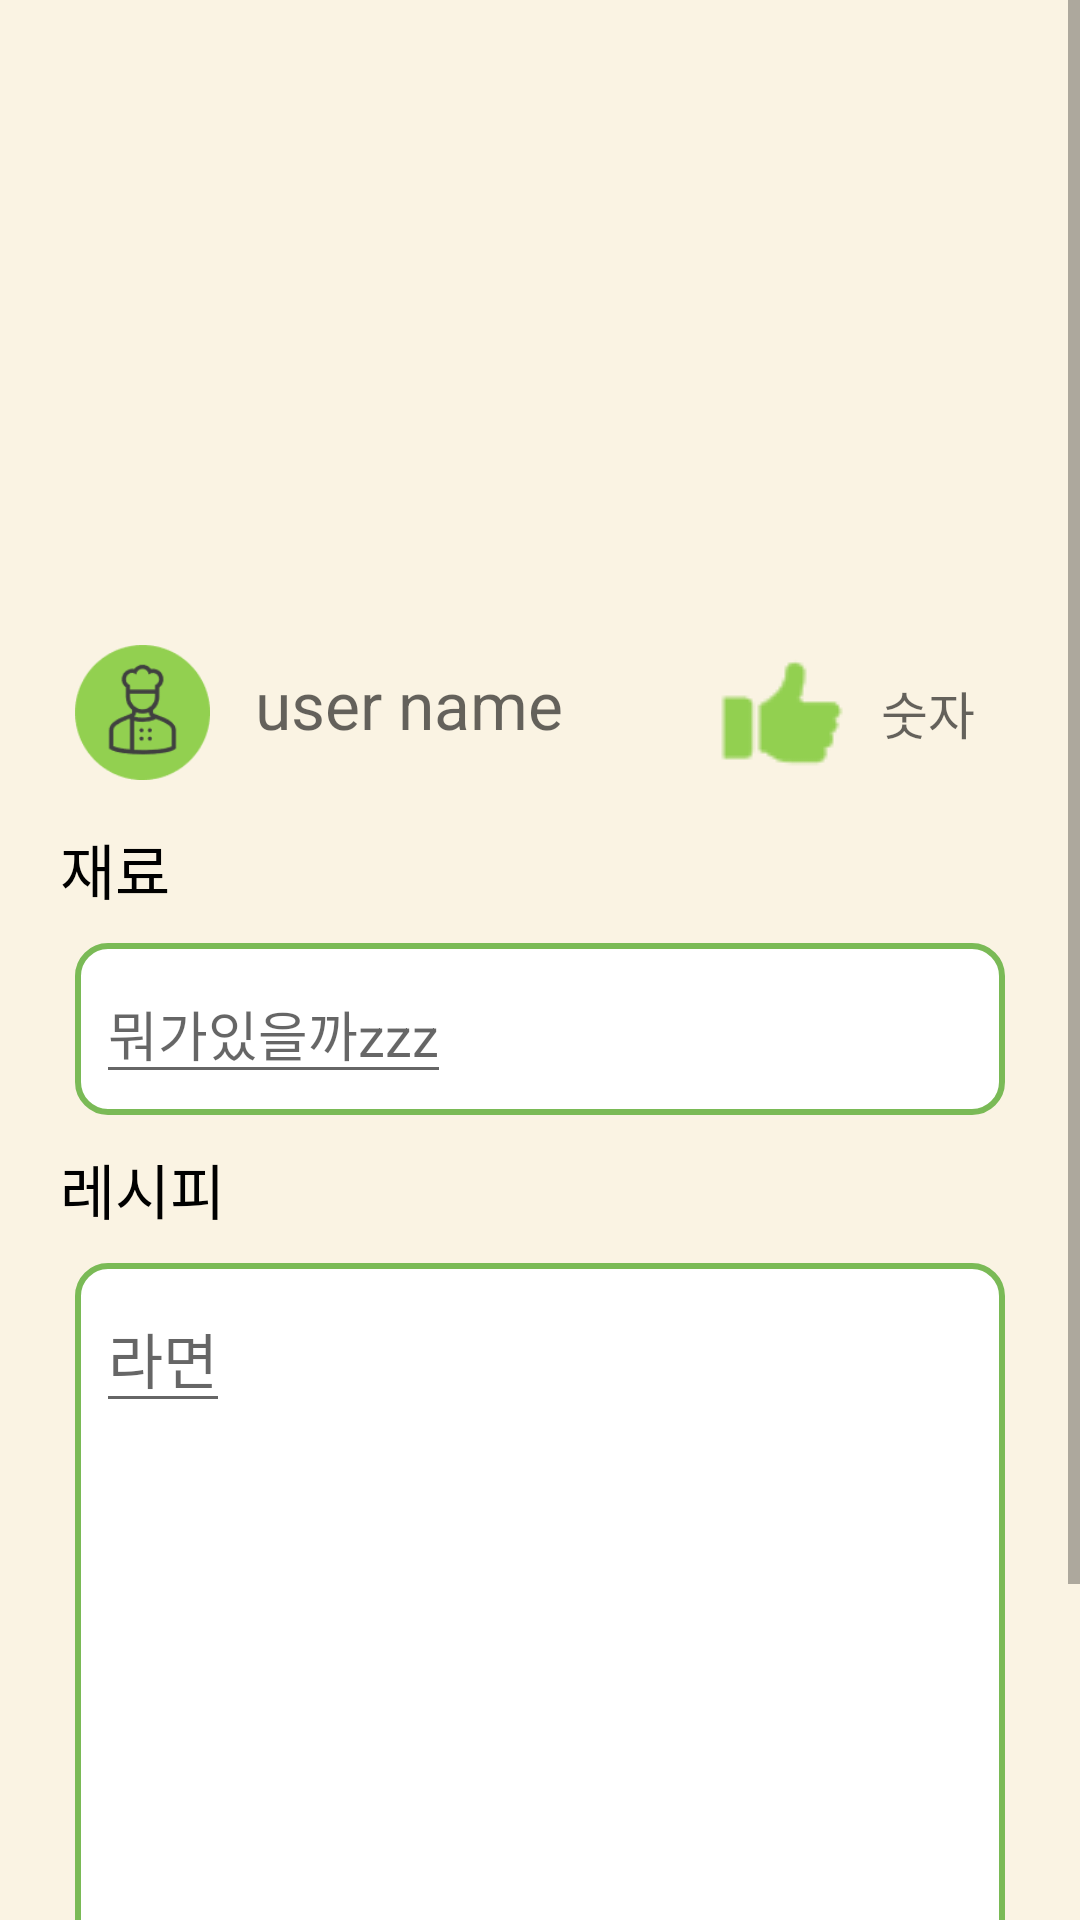

Named icons in this screenshot (1080×1920) and their centers, [x,y]:
good: [782,713]
